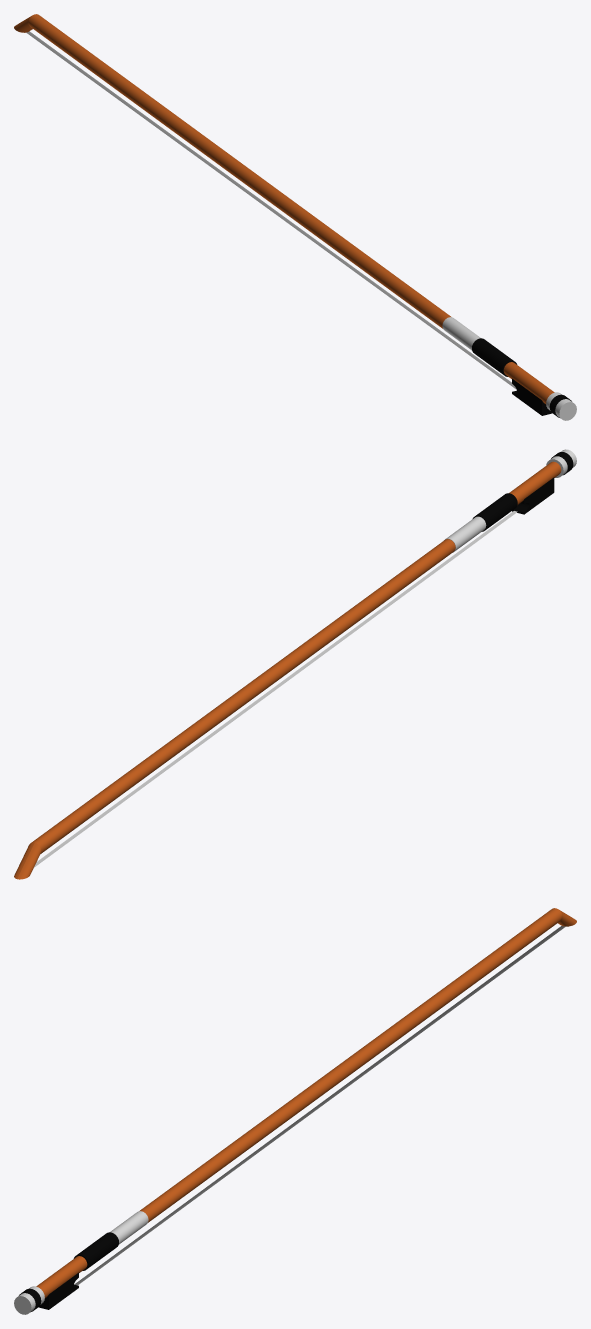
Rendered from Bow.fbx.
3 renders of one model, top to bottom at view 1: azimuth 30°, elevation 25°; view 2: azimuth 150°, elevation 25°; view 3: azimuth 330°, elevation 25°, orthographic.
Visible parts, largest first — view 1: Violin Bow; view 2: Violin Bow; view 3: Violin Bow.
Part boxes in pixels (<box>): Violin Bow: <box>14,14,576,420</box>; Violin Bow: <box>14,449,576,879</box>; Violin Bow: <box>14,908,576,1314</box>.
Size of the model in its own units: 153 by 213 by 7759.
